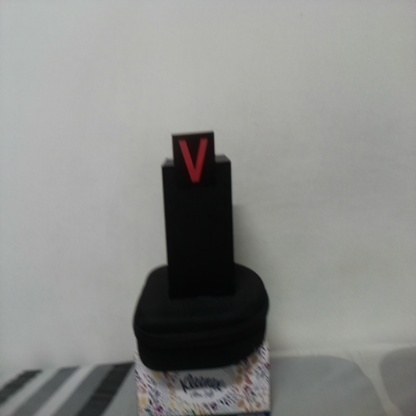id_11: (172, 133, 215, 191)
